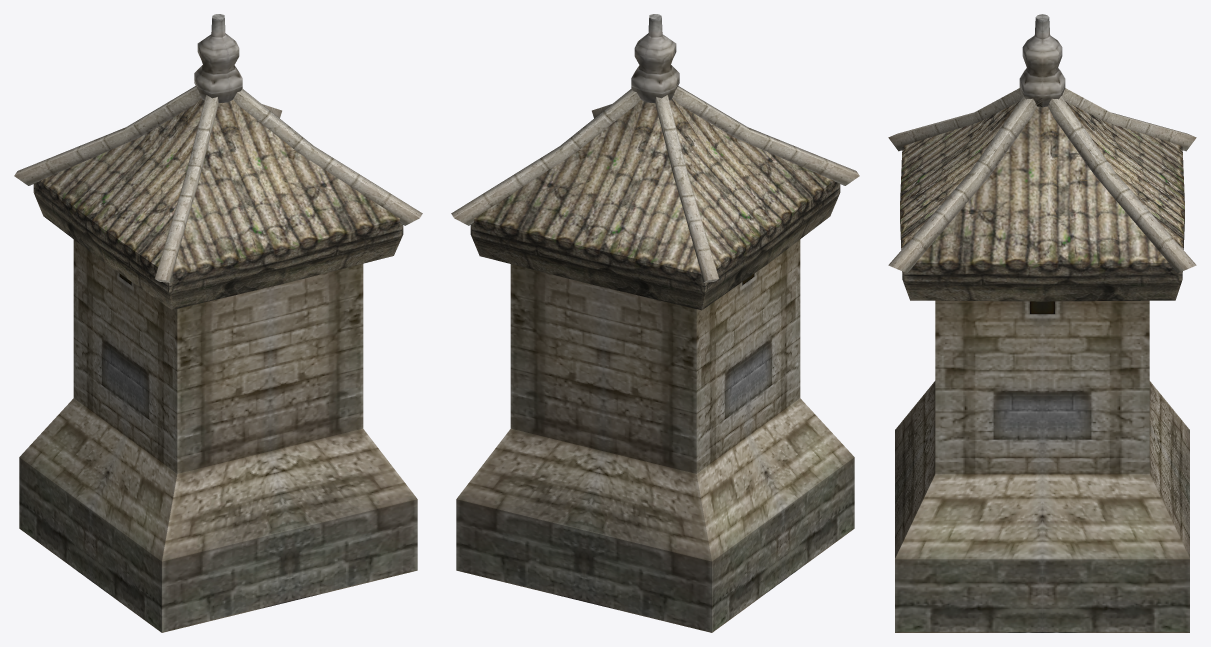
File: Hangzhou_wj_067.FBX
3 views of the same model, side by side, from view 1: azimuth 30°, elevation 25°; view 2: azimuth 150°, elevation 25°; view 3: azimuth 270°, elevation 25° (orthographic). The views are drawn at different scales.
Parts seen in each view (by area): view 1: Box01; view 2: Box01; view 3: Box01.
Boxes of the visible parts, <box> form: Box01: <box>14,14,422,632</box>; Box01: <box>451,14,859,632</box>; Box01: <box>888,14,1196,632</box>.
Bounding box in the file's own units: 218 × 415 × 210.
2 materials, 2 textured.
